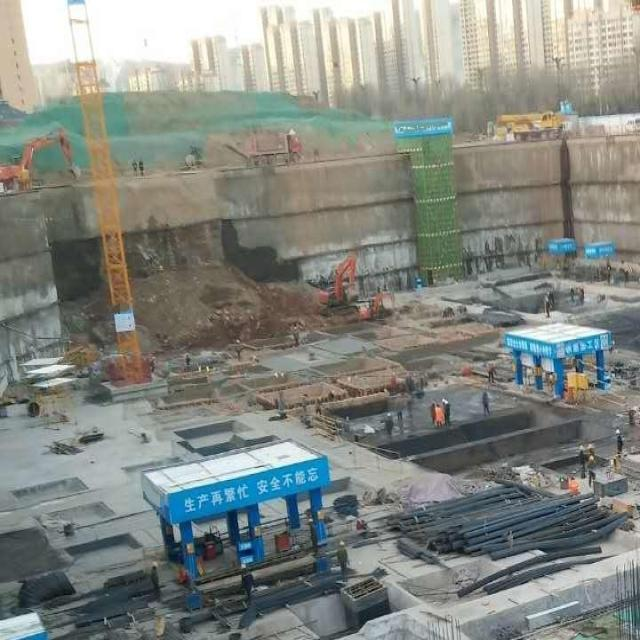crane: (55, 0, 155, 398)
excavator: (0, 119, 80, 203), (314, 245, 366, 323)
